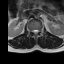CCS_normal: (34, 27, 36, 35)
LFS_normal: (38, 27, 40, 34)
LLS_normal: (36, 27, 38, 34)
RFS_normal: (30, 28, 32, 34)
RLS_normal: (32, 27, 34, 34)
